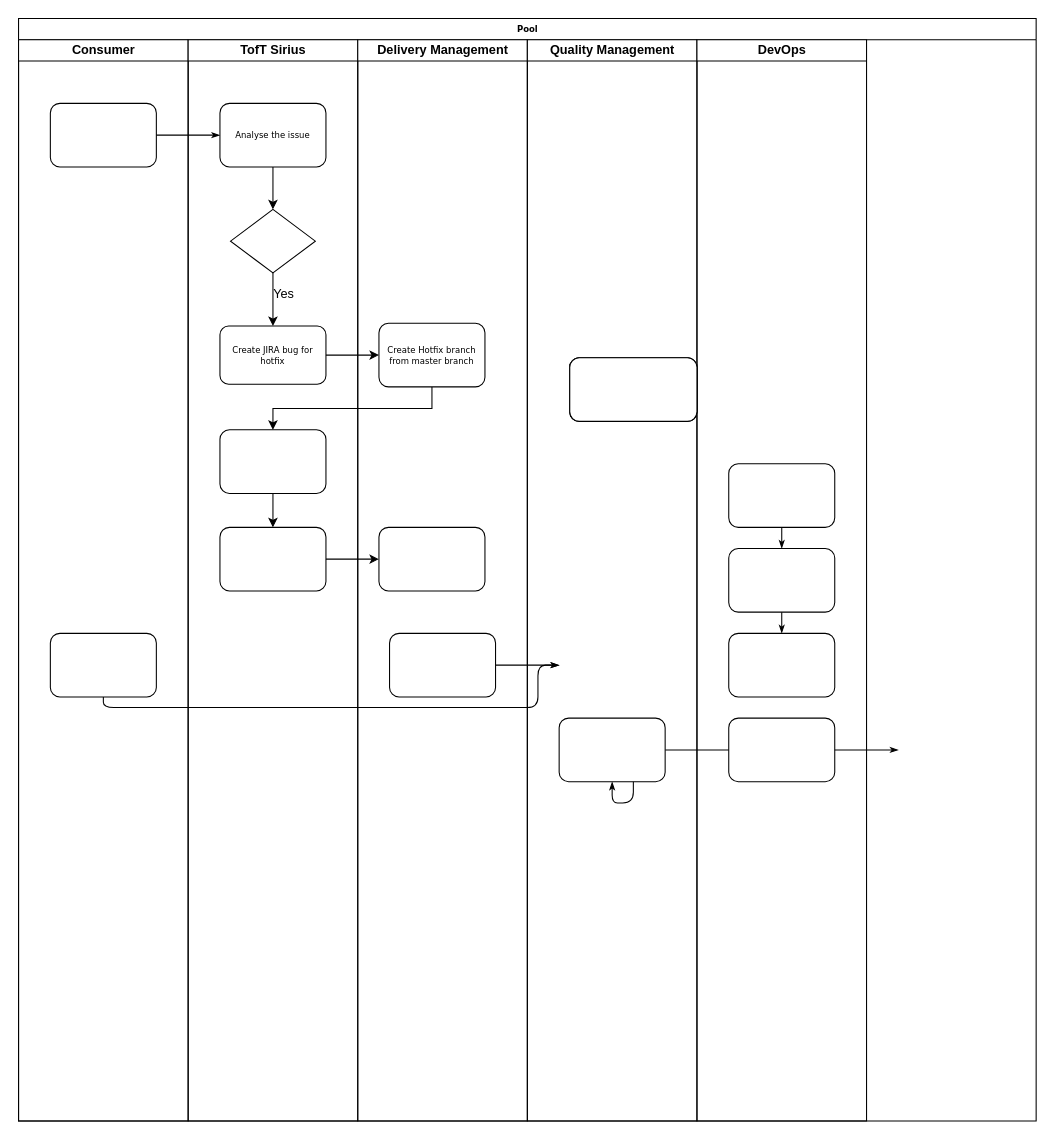
Image size: 1055x1139. Some labels were removed from this diagram. Here are the shapes that lost their labels. From the top down, the centre of each, then its label:
At [102,134]: "Create Priority 1 message".
At [272,240]: "hotfix necessary?".
At [272,461]: "Implement Correction".
At [272,558]: "Necessary Testing".
At [431,558]: "Merge hotfix correction into master branch".
